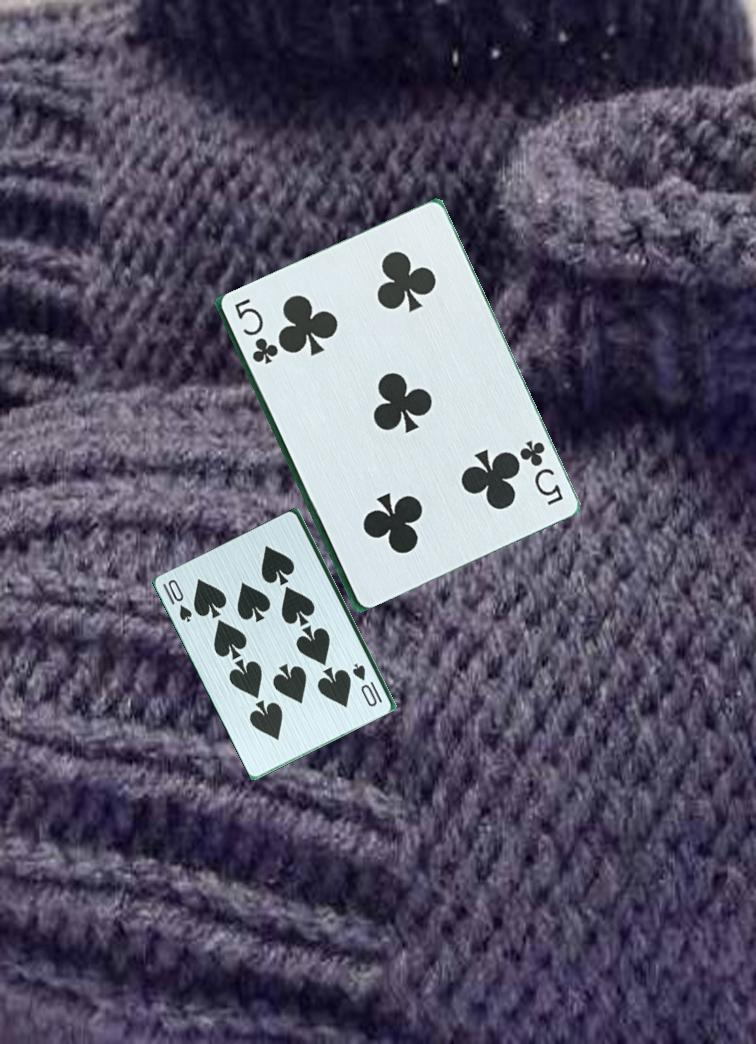5c: (516, 434, 567, 508), (231, 291, 280, 368)
ts: (350, 660, 386, 710), (159, 576, 195, 625)
